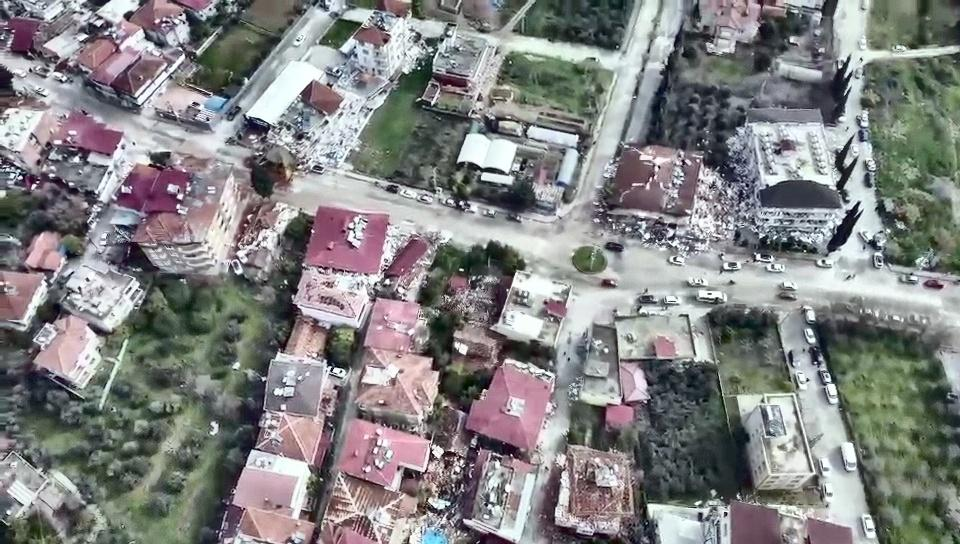kapali: (222, 145, 334, 214)
